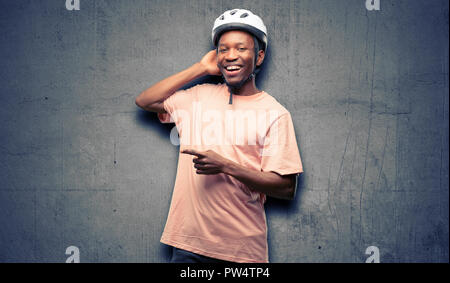helmet: (211, 9, 268, 86)
